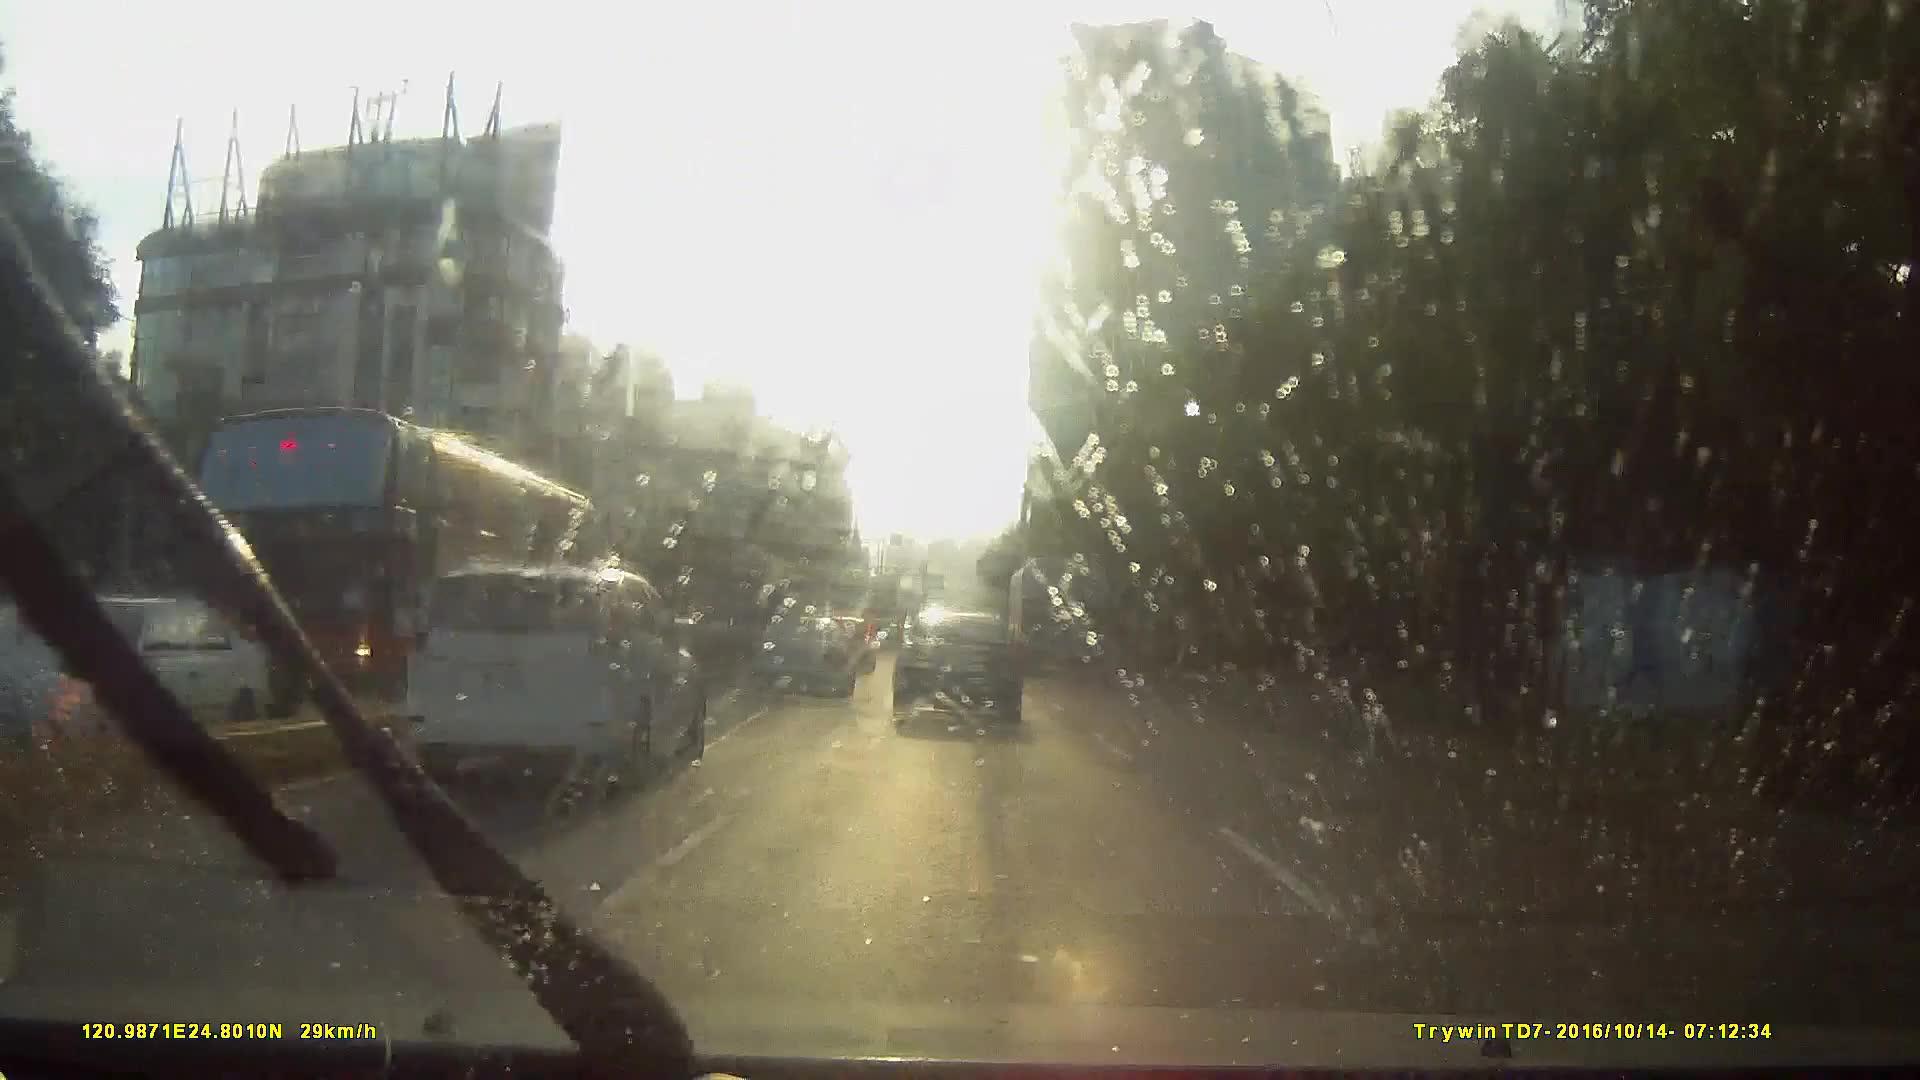vehicle: (137, 400, 624, 738), (251, 556, 684, 868), (405, 568, 708, 796), (0, 597, 231, 753), (891, 615, 1022, 738), (1005, 564, 1110, 691), (746, 626, 853, 713), (866, 638, 915, 687)
